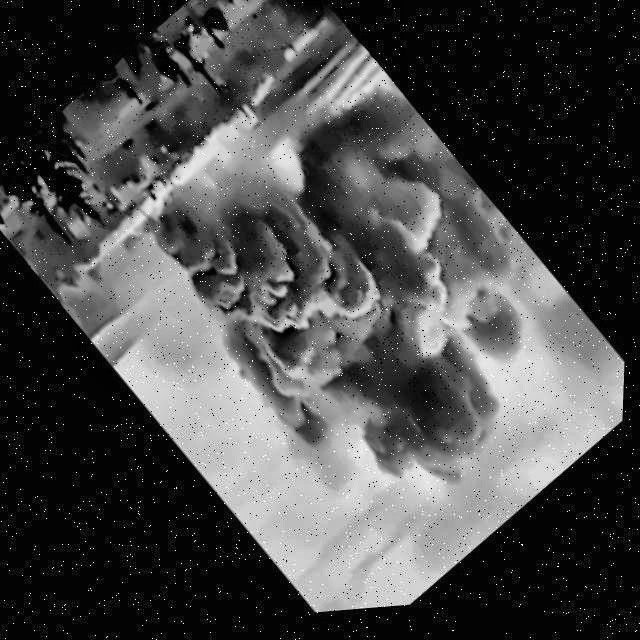Smoke: (118, 30, 622, 570)
